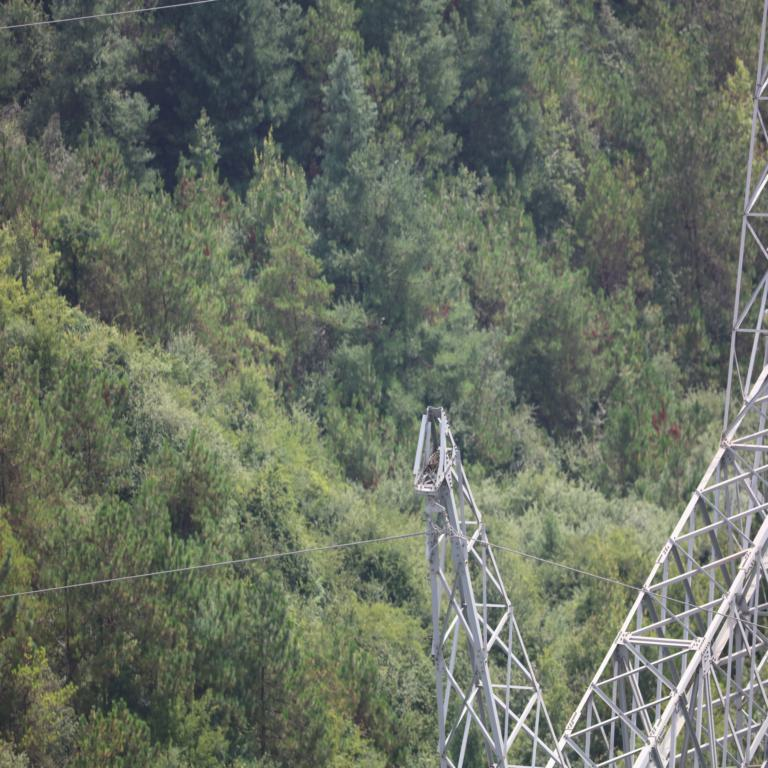nest: (424, 452, 440, 482)
